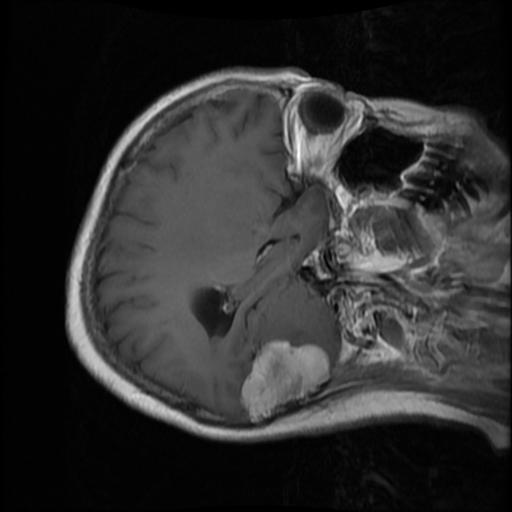meningioma: (239, 339, 330, 423)
